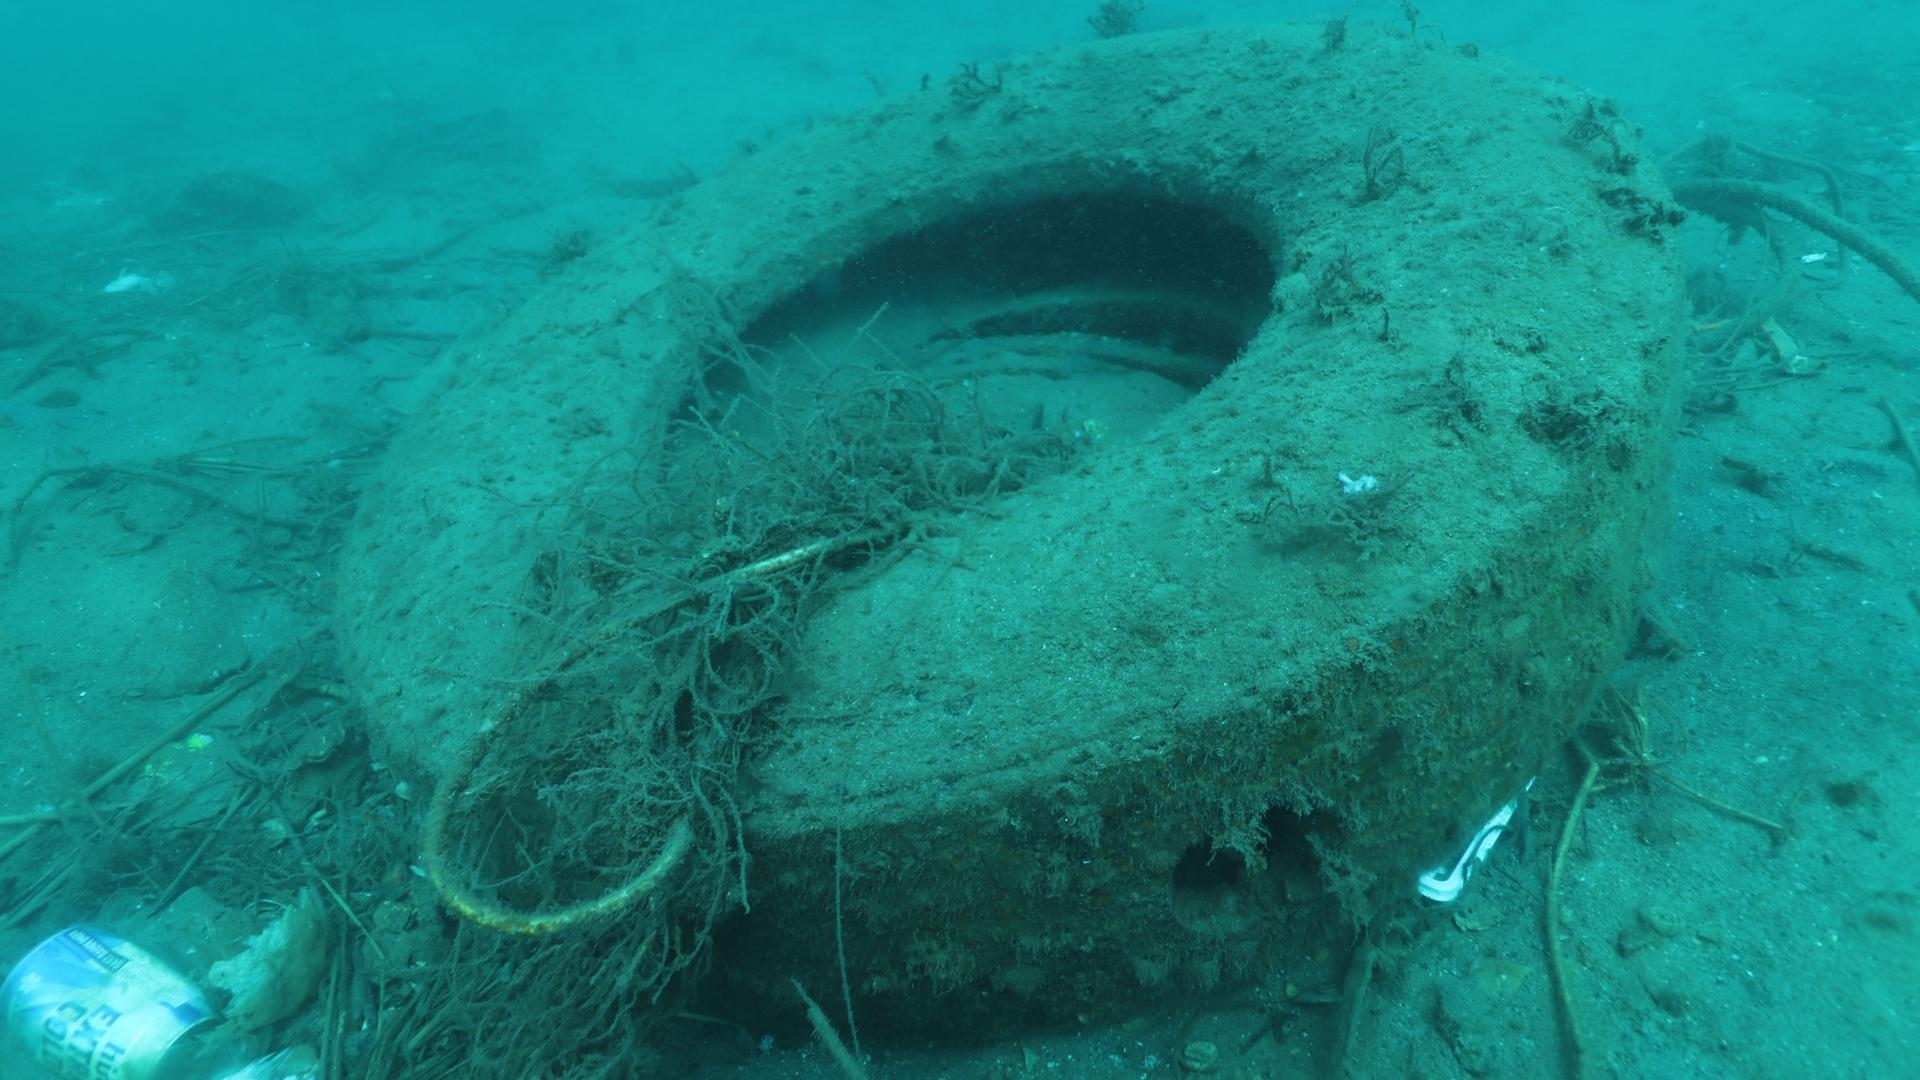tire: (338, 21, 1684, 1065)
